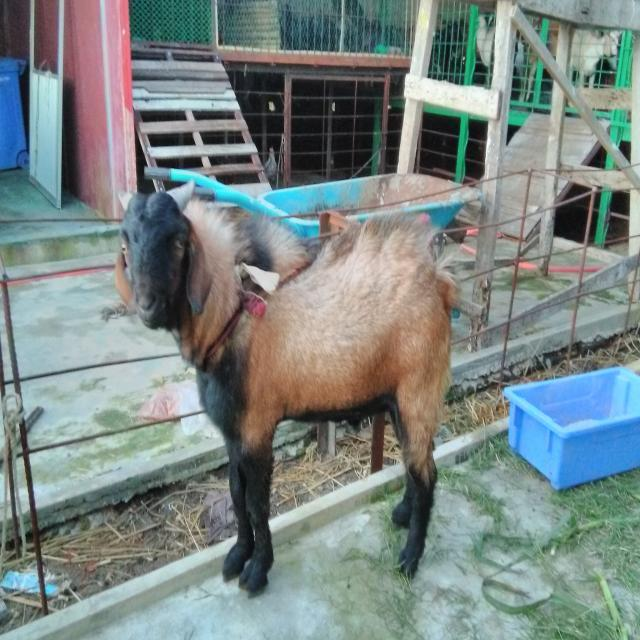Goat: (115, 178, 463, 597)
